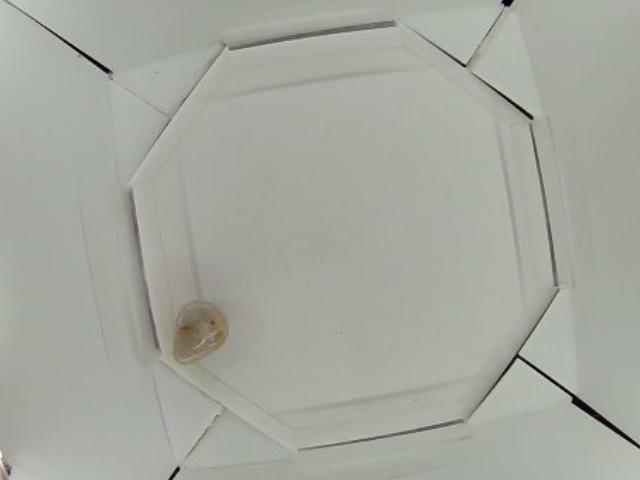Pebble: (173, 299, 230, 365)
